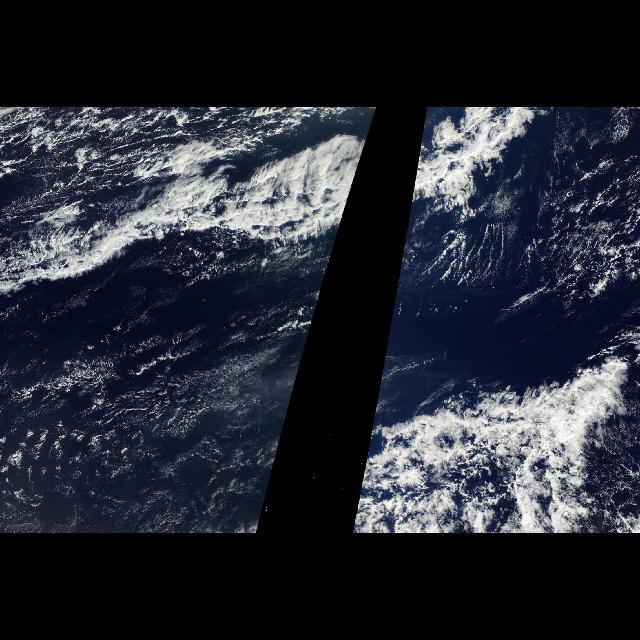Fish: (0, 110, 378, 320), (390, 110, 566, 320)
Gravel: (444, 118, 638, 362)
Sugar: (0, 248, 334, 532), (414, 212, 640, 354)
